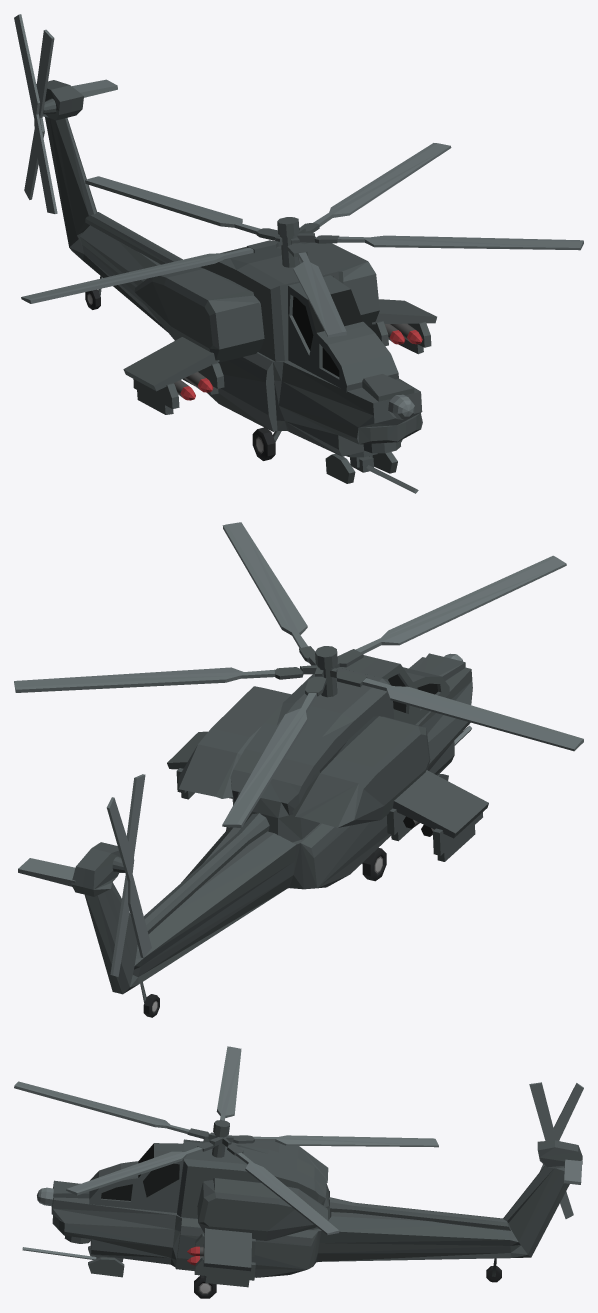
File: Attack_Helicopter.FBX
The picture shows the model from 3 angles, top to bottom: view 1: azimuth 30°, elevation 25°; view 2: azimuth 150°, elevation 25°; view 3: azimuth 270°, elevation 25°; orthographic projection. The views are drawn at different scales.
Parts seen in each view (by area): view 1: Attack_Helicopter; view 2: Attack_Helicopter; view 3: Attack_Helicopter.
Boxes of the visible parts, <box> form: Attack_Helicopter: <box>14,14,583,493</box>; Attack_Helicopter: <box>14,522,583,1017</box>; Attack_Helicopter: <box>14,1046,583,1298</box>.
Bounding box in the file's own units: 7.22 × 3.69 × 9.81.
1 material, 1 textured.
